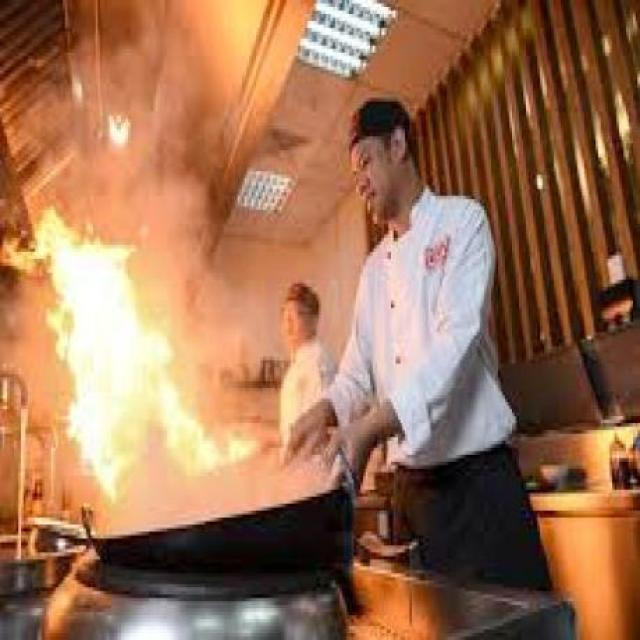Fire: (34, 210, 206, 492)
Smoke: (22, 13, 248, 212), (140, 180, 278, 342)
